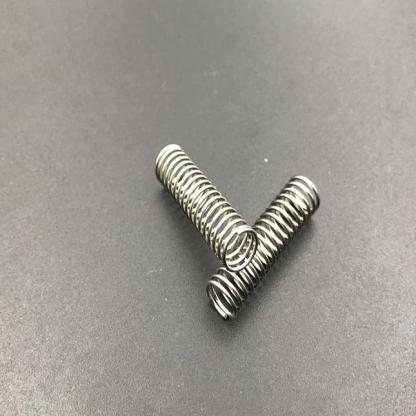FOD: (204, 170, 322, 323), (153, 142, 262, 272)
